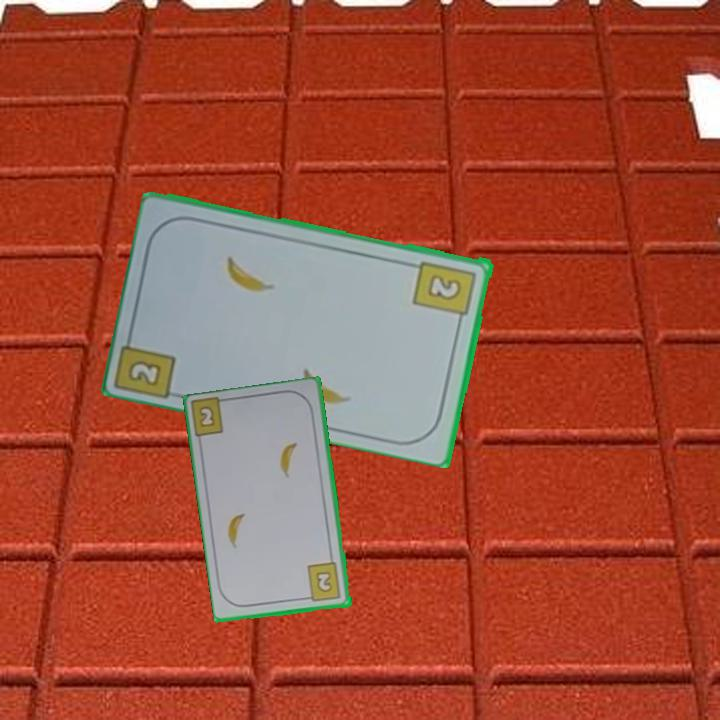2b: (115, 325, 180, 400), (410, 257, 479, 327), (302, 559, 344, 605), (195, 402, 218, 430)
